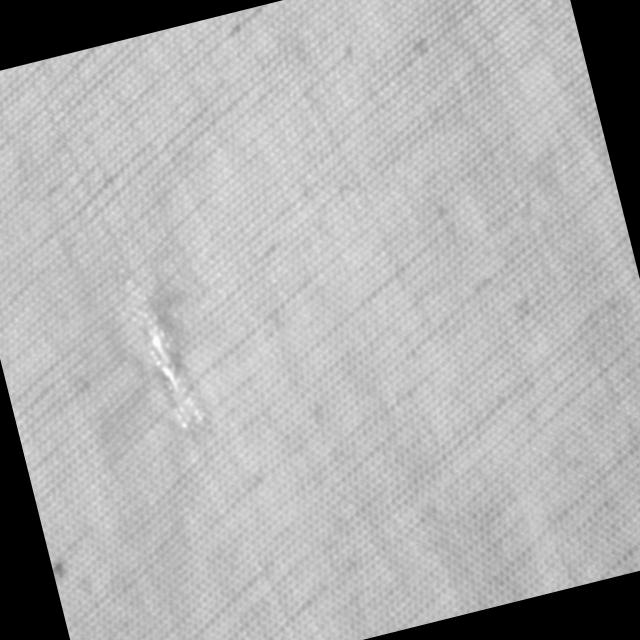hole: (108, 248, 212, 452)
